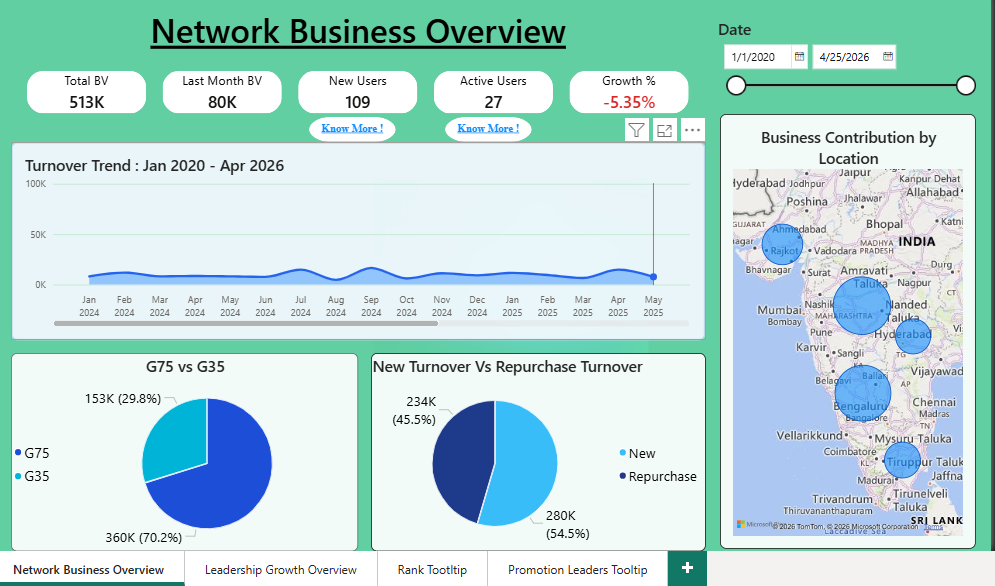

The page's visual inventory and layout, read from the dashboard file:
{"tool":"powerbi","page":{"name":"Network Business Overview","canvas":[1280,720],"ordinal":0},"visuals":[{"type":"slicer","title":"Date","fields":{"Values":["Date_Table.Date"]},"box":[928,32,336,112],"z":1000},{"type":"pieChart","title":"New Turnover Vs Repurchase Turnover","fields":{"Category":["Turnover_Type.Type"],"Y":["Turnover_Type.Turnover Split"]},"box":[480,464,432,256],"z":1500},{"type":"cardVisual","fields":{"Data":["Transactions.Total_BV","Transactions.Last Month BV","Transactions.New Users","Transactions.Active Users","Transactions.Growth %"]},"box":[16,80,896,96],"z":2000},{"type":"lineChart","fields":{"Category":["Date_Table.Year-Month Name"],"Y":["Transactions.Total_BV"]},"box":[16,192,896,256],"z":3000},{"type":"pieChart","title":"G75 vs G35","fields":{"Category":["Coupons.Coupon Type"],"Y":["Sum(Transactions.BV)"]},"box":[16,464,448,256],"z":4000},{"type":"map","title":"Business Contribution by Location","fields":{"Category":["Users.State"],"Size":["Transactions.Total_BV"]},"box":[930.4,155.5,329.6,560.8],"z":5000},{"type":"actionButton","box":[576,160,112,32],"z":8000},{"type":"actionButton","box":[400,160,112,32],"z":9000},{"type":"actionButton","box":[16,0,896,96],"z":10000}]}

Visuals, with their boxes on the page's 1280x720 design canvas (x1, y1, x2, y2). These are canvas units, not pixel positions in the 995x586 screenshot, which may show the page scaled, cropped or inside an application window:
"Date" slicer: bbox=[928, 32, 1264, 144]
"New Turnover Vs Repurchase Turnover" pieChart: bbox=[480, 464, 912, 720]
cardVisual - Transactions.Total_BV x Transactions.Last Month BV: bbox=[16, 80, 912, 176]
lineChart - Date_Table.Year-Month Name x Transactions.Total_BV: bbox=[16, 192, 912, 448]
"G75 vs G35" pieChart: bbox=[16, 464, 464, 720]
"Business Contribution by Location" map: bbox=[930, 156, 1260, 716]
actionButton: bbox=[576, 160, 688, 192]
actionButton: bbox=[400, 160, 512, 192]
actionButton: bbox=[16, 0, 912, 96]
